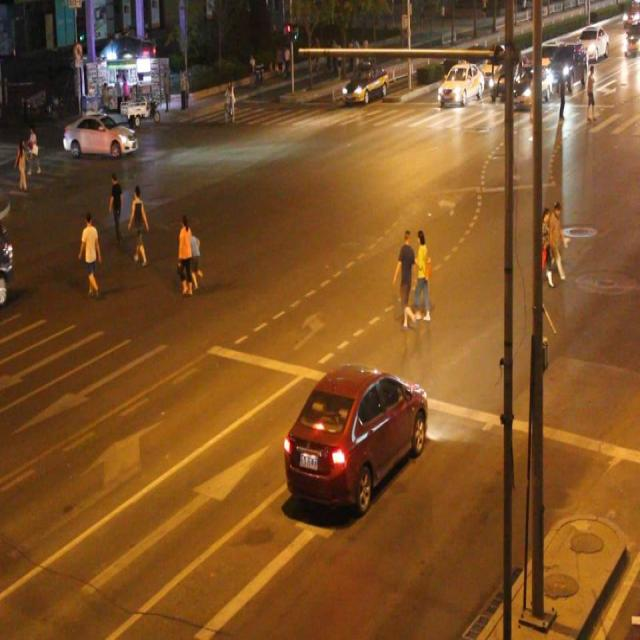car: (283, 365, 427, 510), (64, 113, 138, 160), (341, 64, 387, 105), (436, 64, 483, 102), (1, 220, 14, 306)
